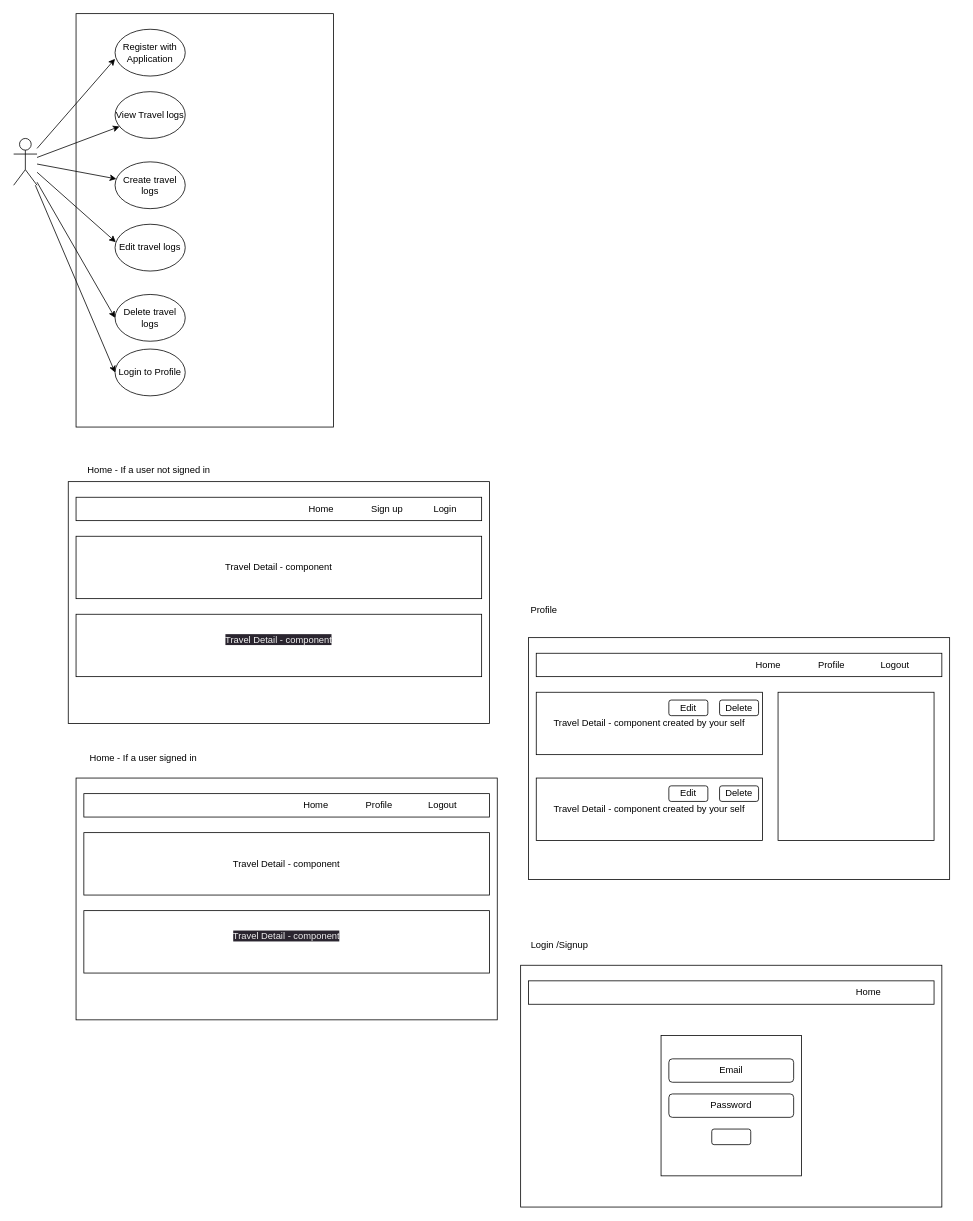
The diagram is 973 pixels wide and 1221 high, and some of its shapes have lost their labels. Each missing label, with the box of its shape:
Create Travel log: (777, 691, 934, 840)
Login: (711, 1128, 751, 1145)
User: (13, 138, 37, 185)
